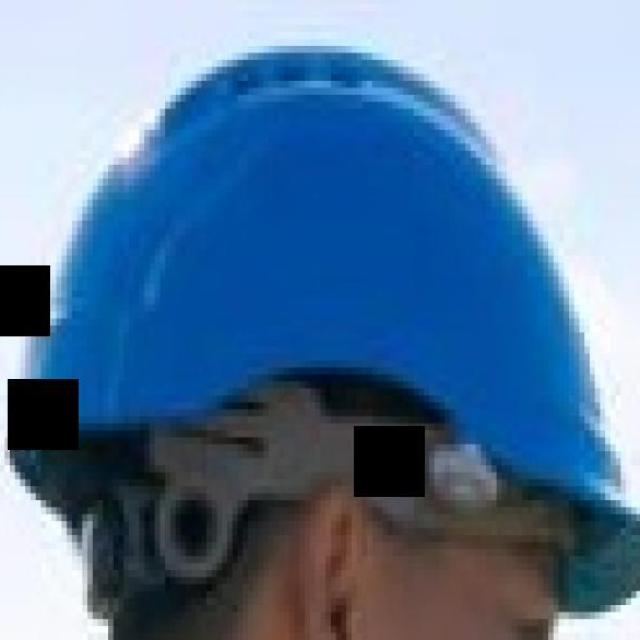helmet: (6, 42, 640, 612)
